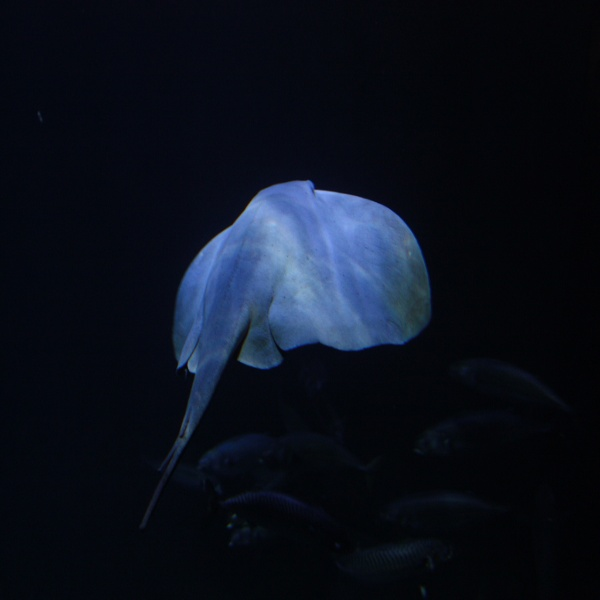Jellyfish: (141, 175, 434, 532)
